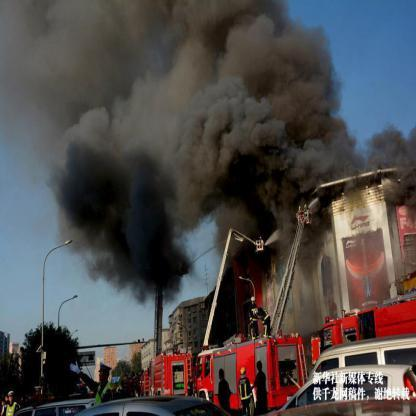smoke: (8, 9, 101, 149), (178, 1, 282, 74), (106, 69, 175, 165), (216, 74, 272, 174), (177, 71, 216, 211), (121, 180, 172, 281), (277, 28, 327, 130), (58, 156, 118, 233), (272, 126, 349, 172), (251, 157, 292, 216), (104, 2, 140, 64), (371, 135, 400, 167)
